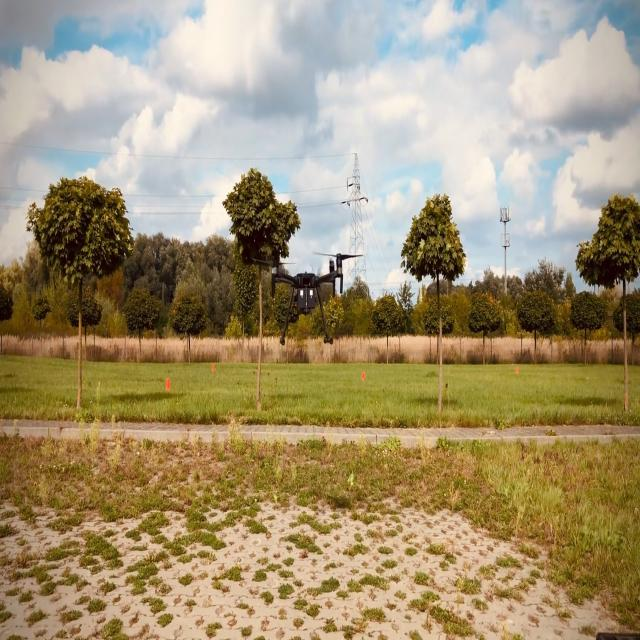drone: (250, 249, 364, 345)
